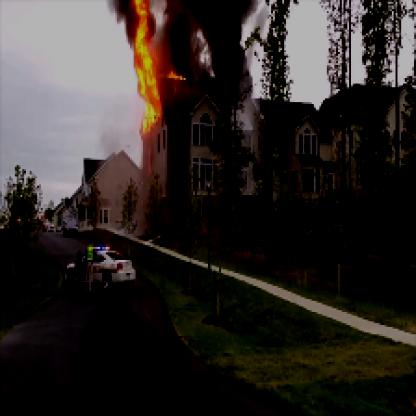Fire: (126, 2, 188, 128)
Smoke: (158, 2, 252, 85)
